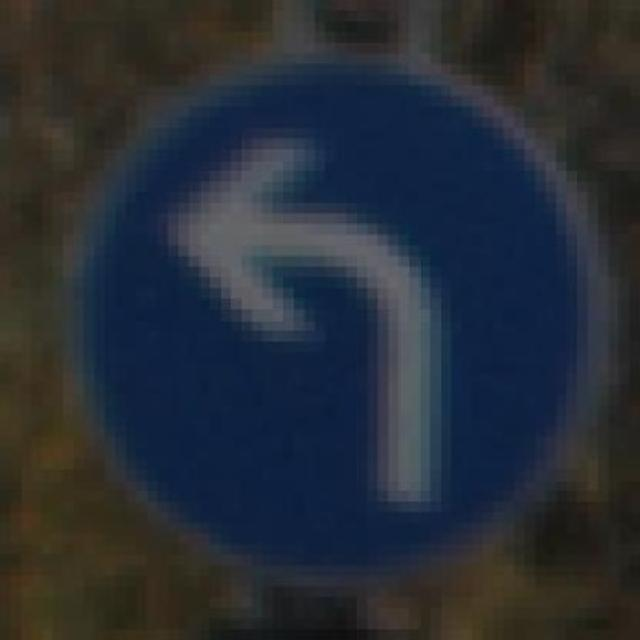Turn left ahead: (52, 42, 610, 566)
